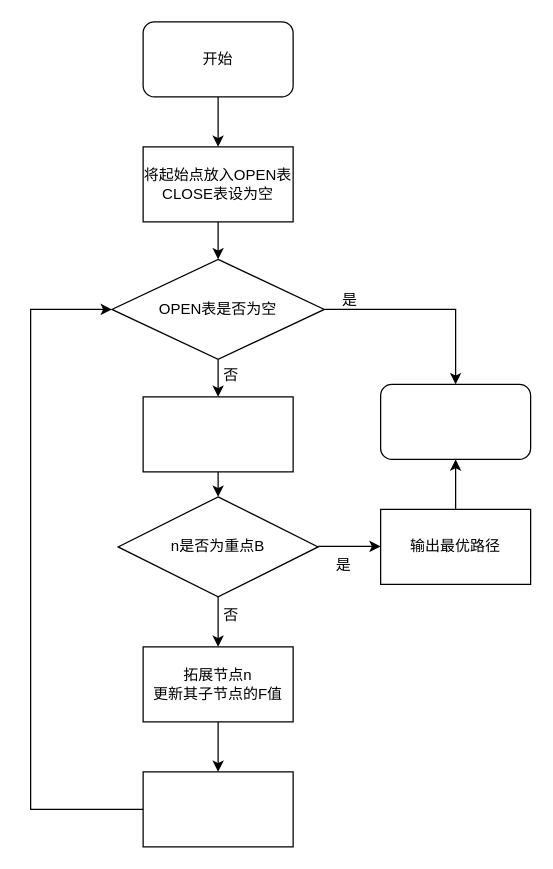
This 553x869 diagram has some shape labels left out. The shapes that lost their labels are listed below. From the top down, each one's box as (x1, y1, x2, y2) in pixels, then its label:
(142, 396, 293, 472): 将n从OPEN表中移至CLOSE表中
(379, 383, 531, 459): 结束
(142, 771, 293, 847): 将新节点加入到 OPEN表中
